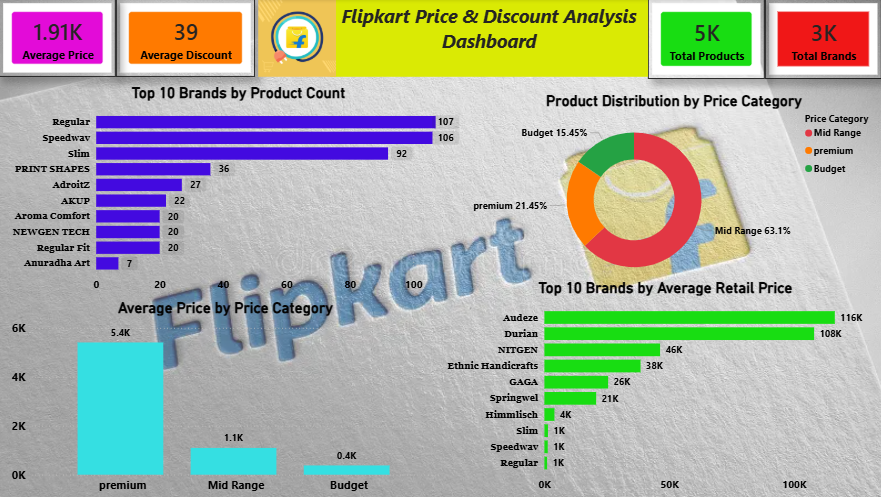

The page's visual inventory and layout, read from the dashboard file:
{"tool":"powerbi","page":{"name":"Page 1","canvas":[1280,720],"ordinal":0},"visuals":[{"type":"cardVisual","fields":{"Data":["flipkart_cleaned.Average Discount"]},"box":[168.5,0,200,112.3],"z":0},{"type":"cardVisual","fields":{"Data":["flipkart_cleaned.Average Price"]},"box":[0,0,168.5,112.3],"z":1000},{"type":"cardVisual","fields":{"Data":["flipkart_cleaned.Total Brands"]},"box":[1103,0,168,115.2],"z":2000},{"type":"barChart","title":"Top 10 Brands by Product Count","fields":{"Category":["flipkart_cleaned.brand"],"Y":["Count(flipkart_cleaned.product_name)"]},"box":[13,122.4,663.8,309.6],"z":3000},{"type":"donutChart","title":"Product Distribution by Price Category","fields":{"Category":["flipkart_cleaned.Price Category"],"Y":["CountNonNull(flipkart_cleaned.product_name)"]},"box":[663.8,133.9,616.3,286.6],"z":4000},{"type":"cardVisual","fields":{"Data":["flipkart_cleaned.Total Products"]},"box":[934.6,0,168.5,115.2],"z":5000},{"type":"clusteredColumnChart","fields":{"Category":["flipkart_cleaned.Price Category"],"Y":["flipkart_cleaned.Average Price"]},"box":[13,432,626.4,288],"z":6000},{"type":"barChart","title":"Top 10 Brands by Average Retail Price","fields":{"Category":["flipkart_cleaned.brand"],"Y":["Avg(flipkart_cleaned.retail_price)"]},"box":[639.4,403.2,640.8,316.8],"z":7000},{"type":"textbox","box":[476.6,0,457.9,112.3],"z":8000},{"type":"image","box":[256.3,0,345.6,112.3],"z":8005}]}

Visuals, with their boxes in screenshot pixels (x1, y1, x2, y2), scaled from the page's 1280x720 canvas onto the 881x497 screenshot:
cardVisual - flipkart_cleaned.Average Discount: (left=116, top=0, right=254, bottom=78)
cardVisual - flipkart_cleaned.Average Price: (left=0, top=0, right=116, bottom=78)
cardVisual - flipkart_cleaned.Total Brands: (left=759, top=0, right=875, bottom=80)
"Top 10 Brands by Product Count" barChart: (left=9, top=84, right=466, bottom=298)
"Product Distribution by Price Category" donutChart: (left=457, top=92, right=880, bottom=290)
cardVisual - flipkart_cleaned.Total Products: (left=643, top=0, right=759, bottom=80)
clusteredColumnChart - flipkart_cleaned.Price Category x flipkart_cleaned.Average Price: (left=9, top=298, right=440, bottom=496)
"Top 10 Brands by Average Retail Price" barChart: (left=440, top=278, right=880, bottom=496)
textbox: (left=328, top=0, right=643, bottom=78)
image: (left=176, top=0, right=414, bottom=78)
